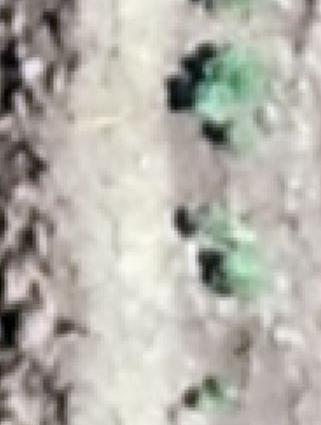cotton: (221, 257, 254, 287), (223, 124, 252, 156), (200, 78, 235, 104), (211, 57, 247, 82), (234, 70, 262, 96), (213, 223, 239, 247), (211, 381, 227, 401)
